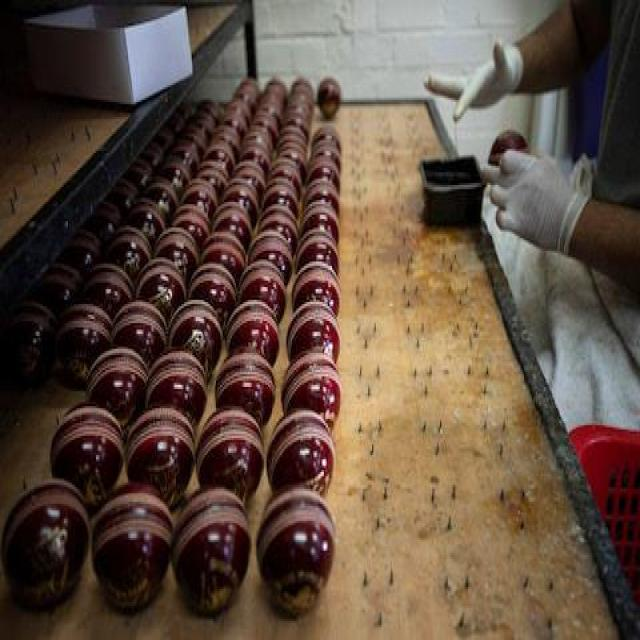ball: (251, 488, 346, 616)
